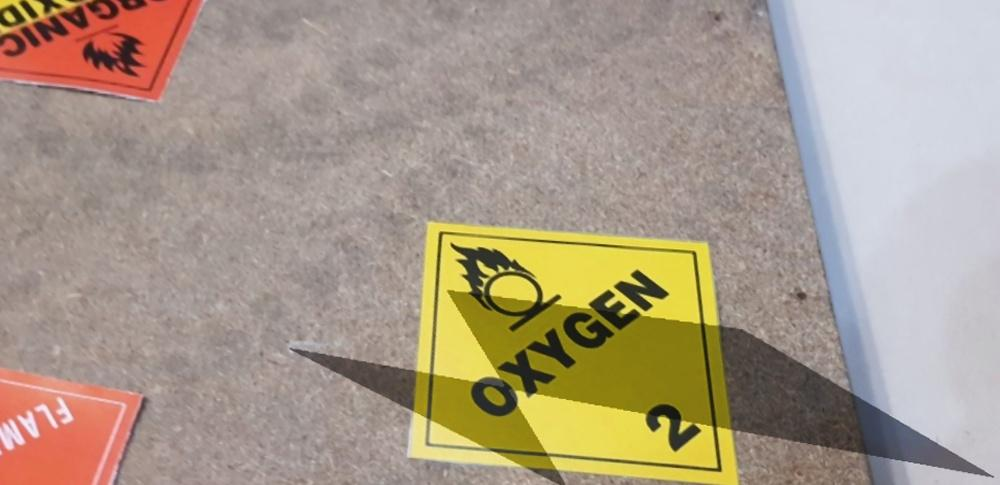flammable: (1, 369, 148, 485)
organic-peroxide: (1, 1, 274, 116)
oxidizer: (340, 214, 744, 485)
